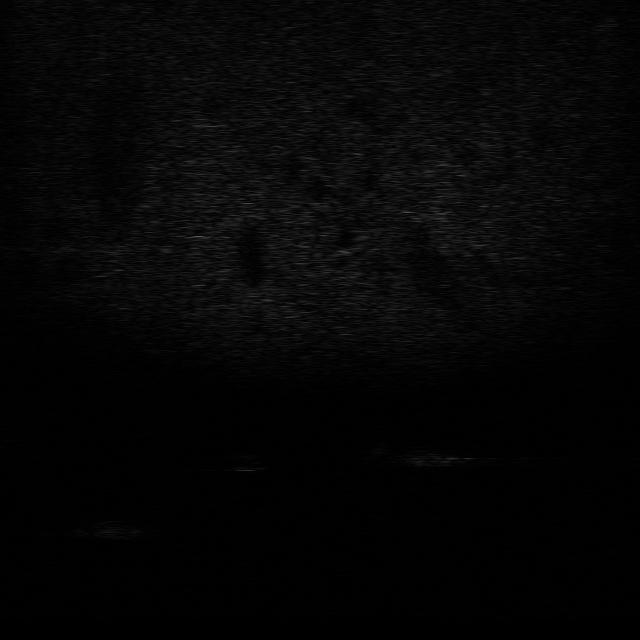ball: (222, 449, 268, 473)
circle cage: (70, 512, 142, 542)
human body: (362, 442, 476, 468)
